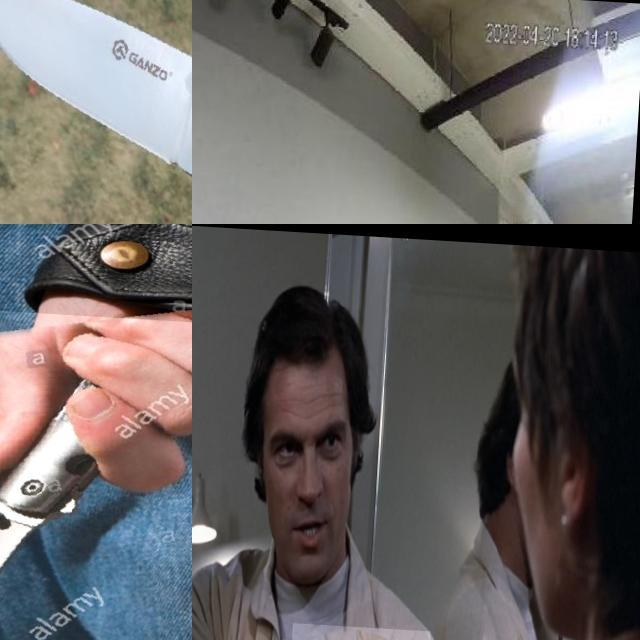-: (0, 296, 192, 640), (0, 0, 192, 224)
